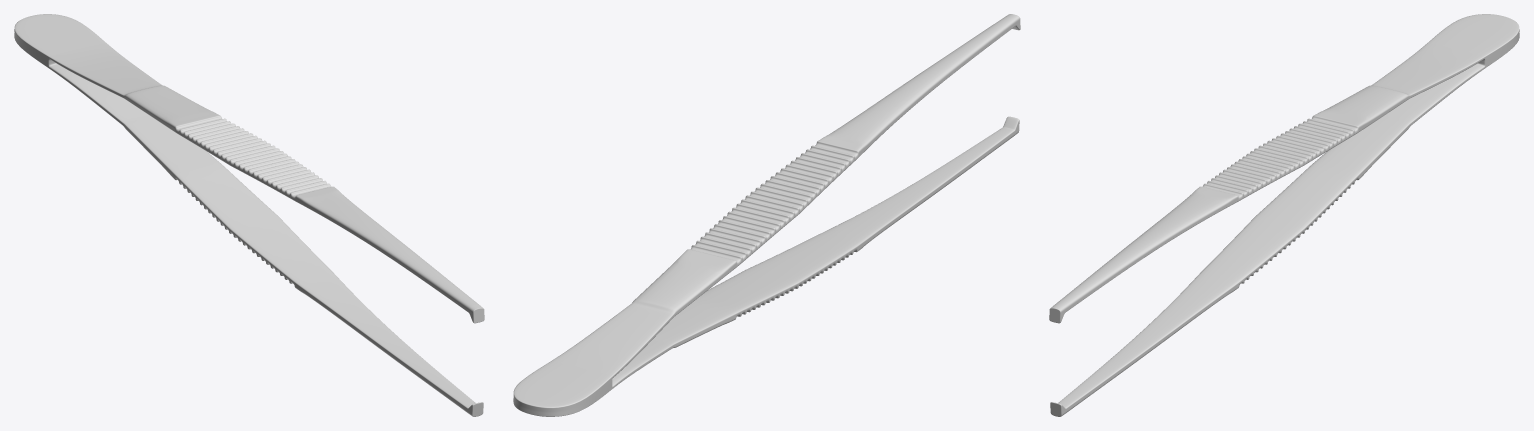
The model's file is KepPhauTich.fbx.
3 views of the same model, side by side, from view 1: azimuth 30°, elevation 25°; view 2: azimuth 150°, elevation 25°; view 3: azimuth 330°, elevation 25° (orthographic). The views are drawn at different scales.
Parts seen in each view (by area): view 1: KepPhauTich; view 2: KepPhauTich; view 3: KepPhauTich.
Part boxes in pixels (x1,y1,x2,y2): KepPhauTich: (14, 14, 484, 416); KepPhauTich: (513, 14, 1020, 416); KepPhauTich: (1049, 14, 1519, 416).
Size of the model in its own units: 1.15 by 1.97 by 14.51.
Materials: 1 (1 with a texture image).
